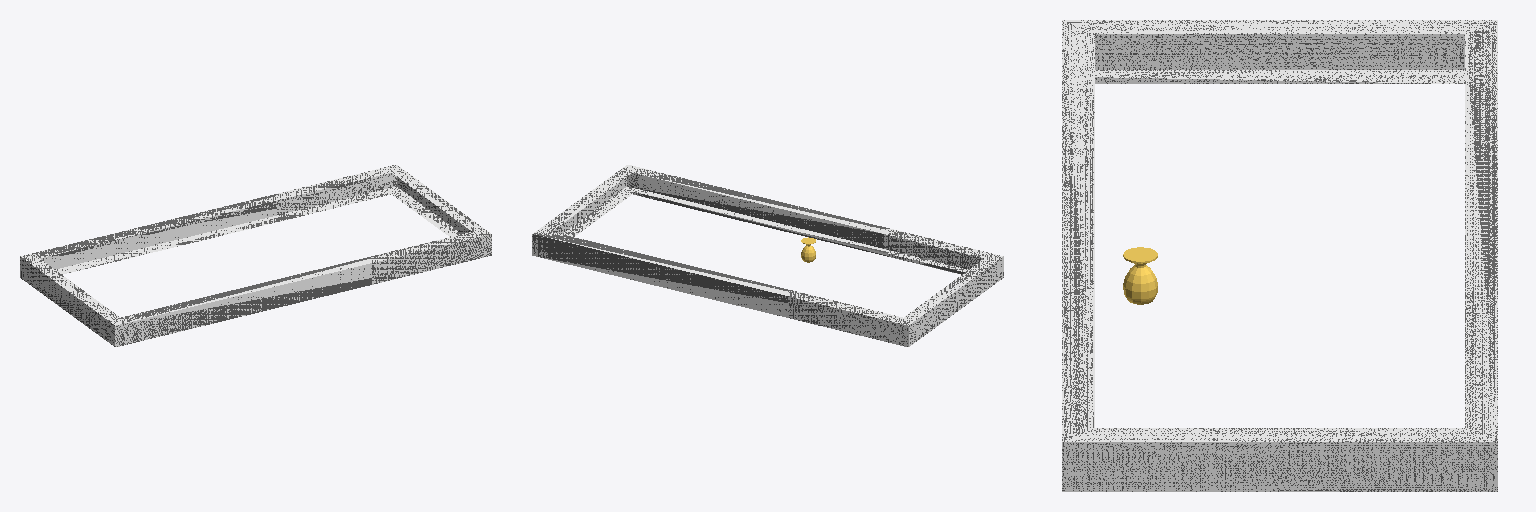
The robot description file, URDF, robot "right-pull-door":
<?xml version="1.0" ?>
<robot name="right-pull-door">
	<link name="base"/>
	<link name="link_0">
		<visual name="out-frame">
			<origin xyz="0 0 0"/>
			<geometry>
				<mesh filename="texture_dae/frame.dae" scale="0.9340315474601226 0.9340315474601226 0.9340315474601226"/>
			</geometry>
		</visual>
		<collision>
			<origin xyz="0 0 0"/>
			<geometry>
				<mesh filename="texture_dae/frame.dae" scale="0.9340315474601226 0.9340315474601226 0.9340315474601226"/>
			</geometry>
		</collision>
	</link>
	<joint name="joint_0" type="fixed">
		<origin rpy="1.570796326794897 0 -1.570796326794897" xyz="0 0 0"/>
		<child link="link_0"/>
		<parent link="base"/>
	</joint>
	<link name="link_1">
		<visual name="surf-board">
			<origin xyz="0.3266300493786529 -0.815417453139363 0"/>
			<geometry>
				<mesh filename="texture_dae/board.dae" scale="0.9340315474601226 0.9340315474601226 0.9340315474601226"/>
			</geometry>
		</visual>
		<collision>
			<origin xyz="0.3266300493786529 -0.815417453139363 0"/>
			<geometry>
				<mesh filename="texture_dae/board.dae" scale="0.9340315474601226 0.9340315474601226 0.9340315474601226"/>
			</geometry>
		</collision>
	</link>
	<joint name="joint_1" type="revolute">
		<origin xyz="-0.3266300493786529 0.815417453139363 0"/>
		<axis xyz="0 -1 0"/>
		<child link="link_1"/>
		<parent link="link_0"/>
		<limit lower="0" upper="1.5079644737231006"/>
	</joint>
	<link name="link_2">
		<visual name="handle">
			<origin xyz="0 0 0"/>
			<geometry>
				<mesh filename="texture_dae/9962041.dae" scale="1.144007610645739 1.144007610645739 1.144007610645739"/>
			</geometry>
		</visual>
		<collision>
			<origin xyz="0 0 0"/>
			<geometry>
				<mesh filename="texture_dae/9962041.dae" scale="1.144007610645739 1.144007610645739 1.144007610645739"/>
			</geometry>
		</collision>
	</link>
	<joint name="joint_2" type="revolute">
		<origin xyz="0.5702512860034737 -0.834965299869953 0.048382534547660595"/>
		<child link="link_2"/>
		<parent link="link_1"/>
		<axis xyz="0 0 1"/>
		<limit lower="0" upper="1.5079644737231006"/>
	</joint>
</robot>

--- Render facts (derived) ---
3 views of the same robot in one strip: view 1: azimuth 30°, elevation 25°; view 2: azimuth 150°, elevation 25°; view 3: azimuth 270°, elevation 25° (orthographic).
Model right-pull-door with 4 links and 3 joints (2 revolute, 1 fixed), rooted at base, posed all joints at 0.
Links seen in each view (by area): view 1: link_0; view 2: link_0; view 3: link_0, link_2.
Boxes of the visible links, x1,y1,x2,y2 form: link_0: [20, 165, 491, 346]; link_0: [532, 165, 1003, 346]; link_0: [1062, 20, 1497, 491]; link_2: [1123, 247, 1157, 304].
Size in the robot's own frame: 1.75 by 0.764 by 0.1548 metres.
2 mesh visuals loaded from 3 distinct referenced files (2 Collada DAE); not drawn: 1 (reference not matched to a file when rendering).
